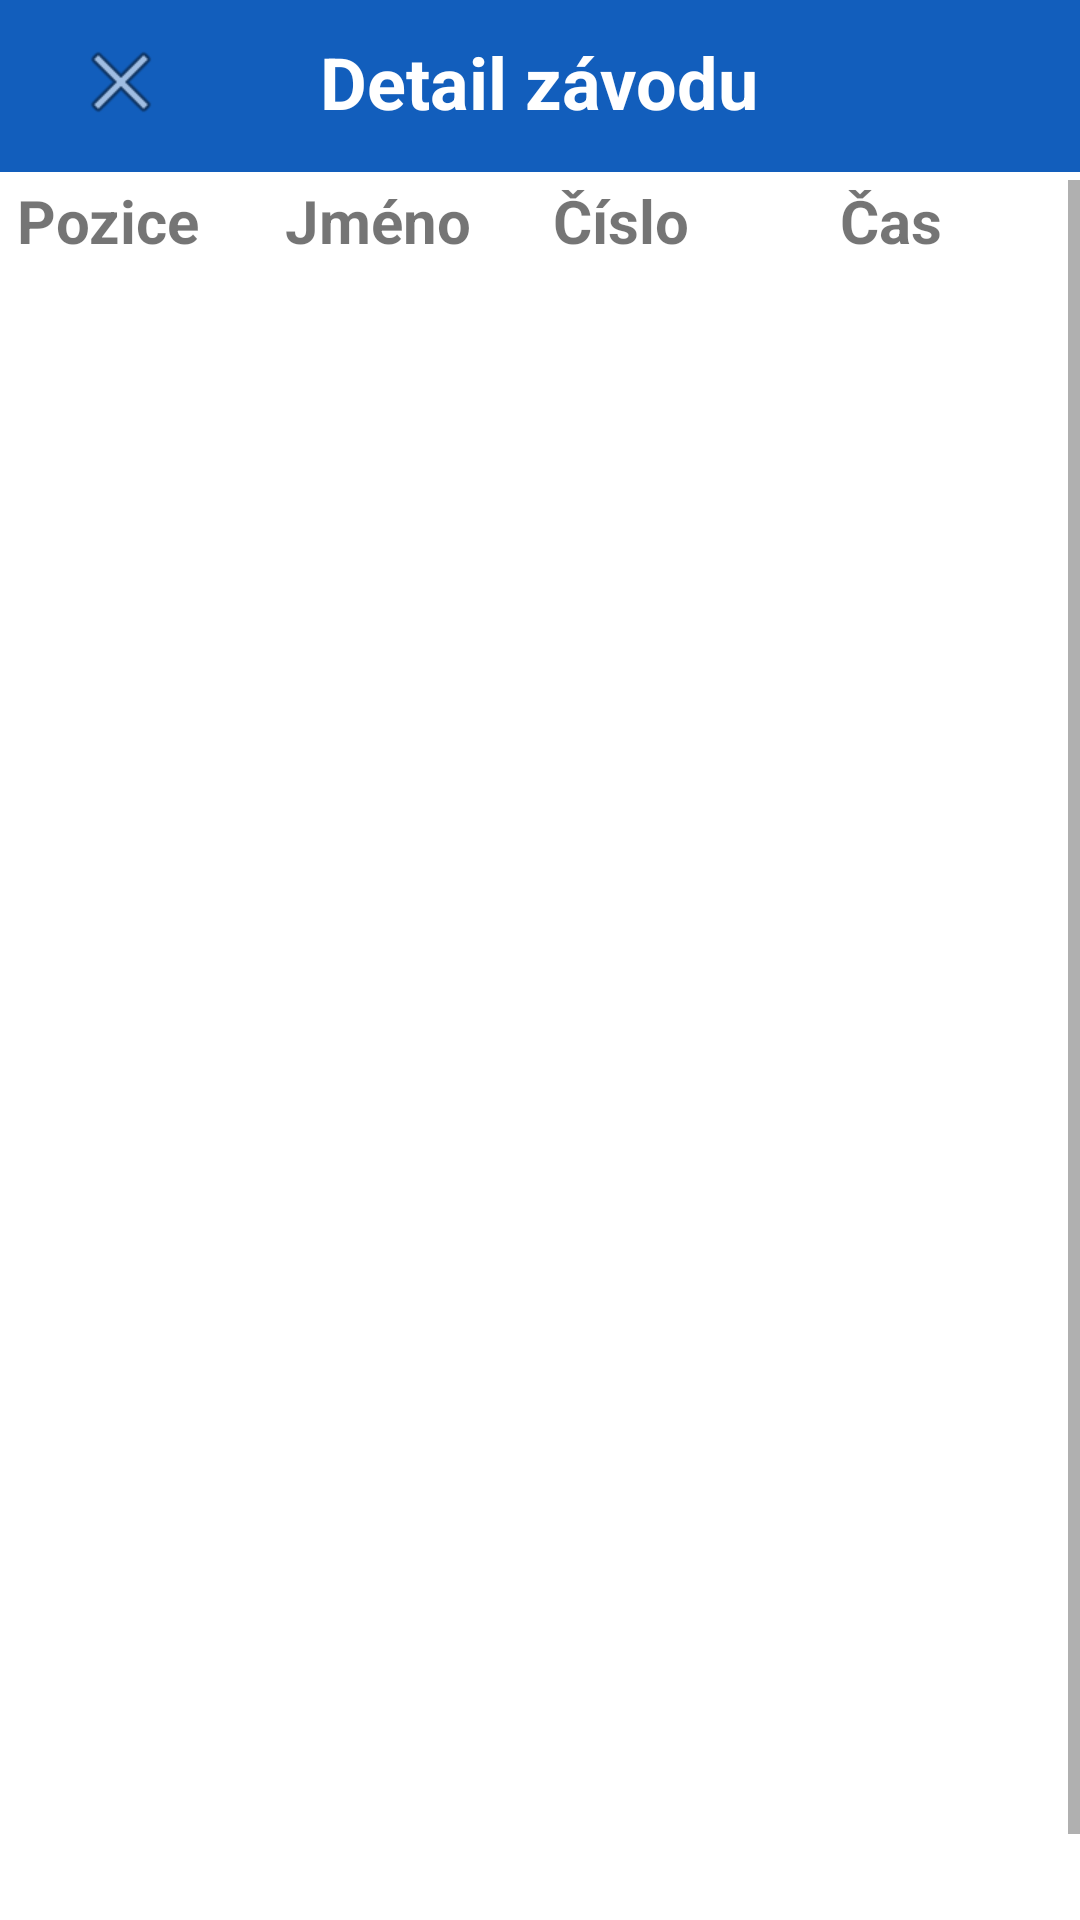

Screen size 1080w x 1920h. Icon name, then its box in pixels as (x1, y1, x2, y2):
close clear cancel: (91, 52, 151, 112)
